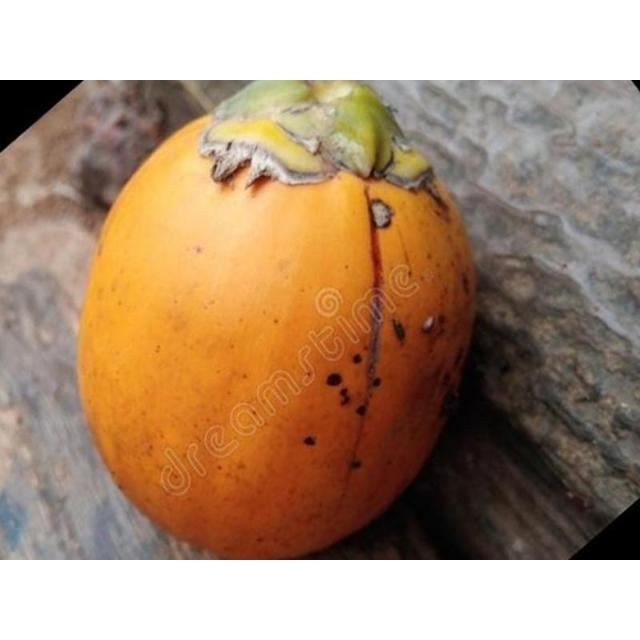good: (75, 80, 481, 559)
